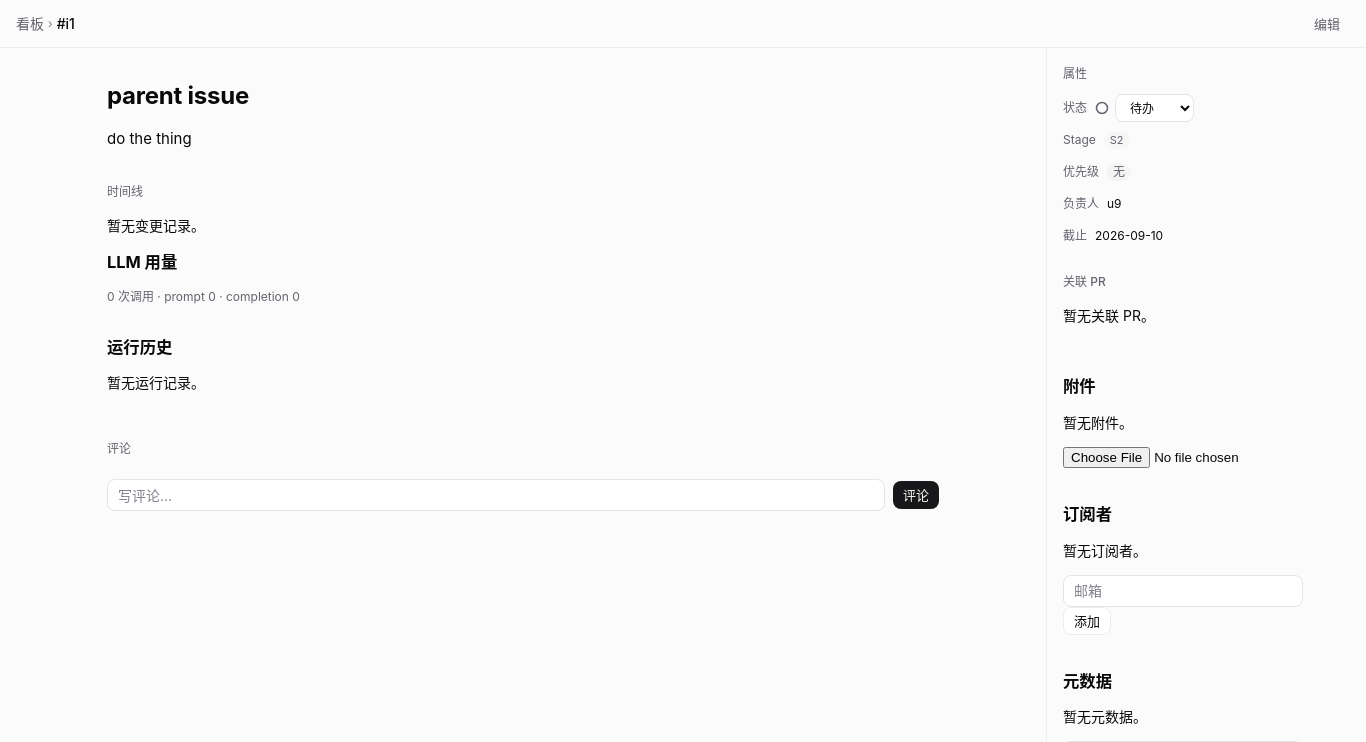
Test: IssueDetailPage › adds a top-level comment
Type "new comment" into the field with test id "new-comment" at [496, 495], box [107,479,885,511]
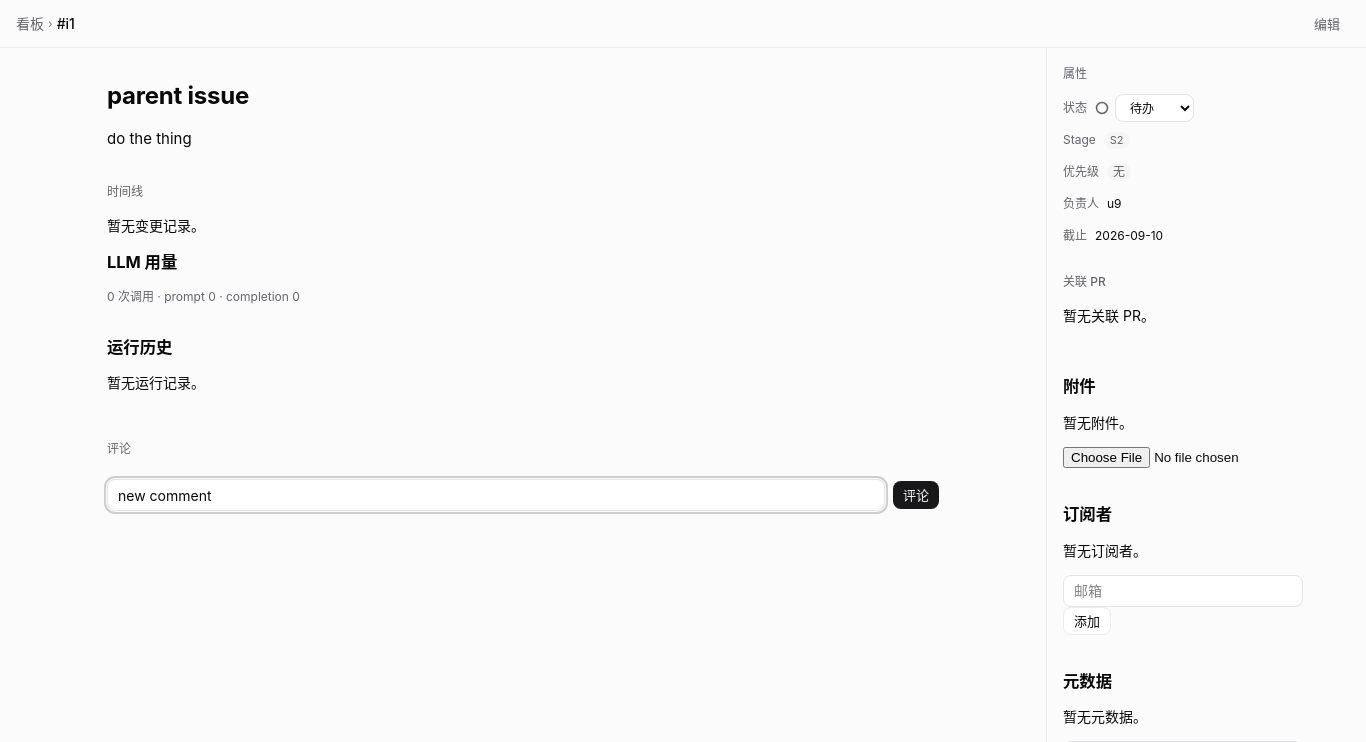
Click the button with test id "submit-comment" at [916, 495], box [893,481,939,509]
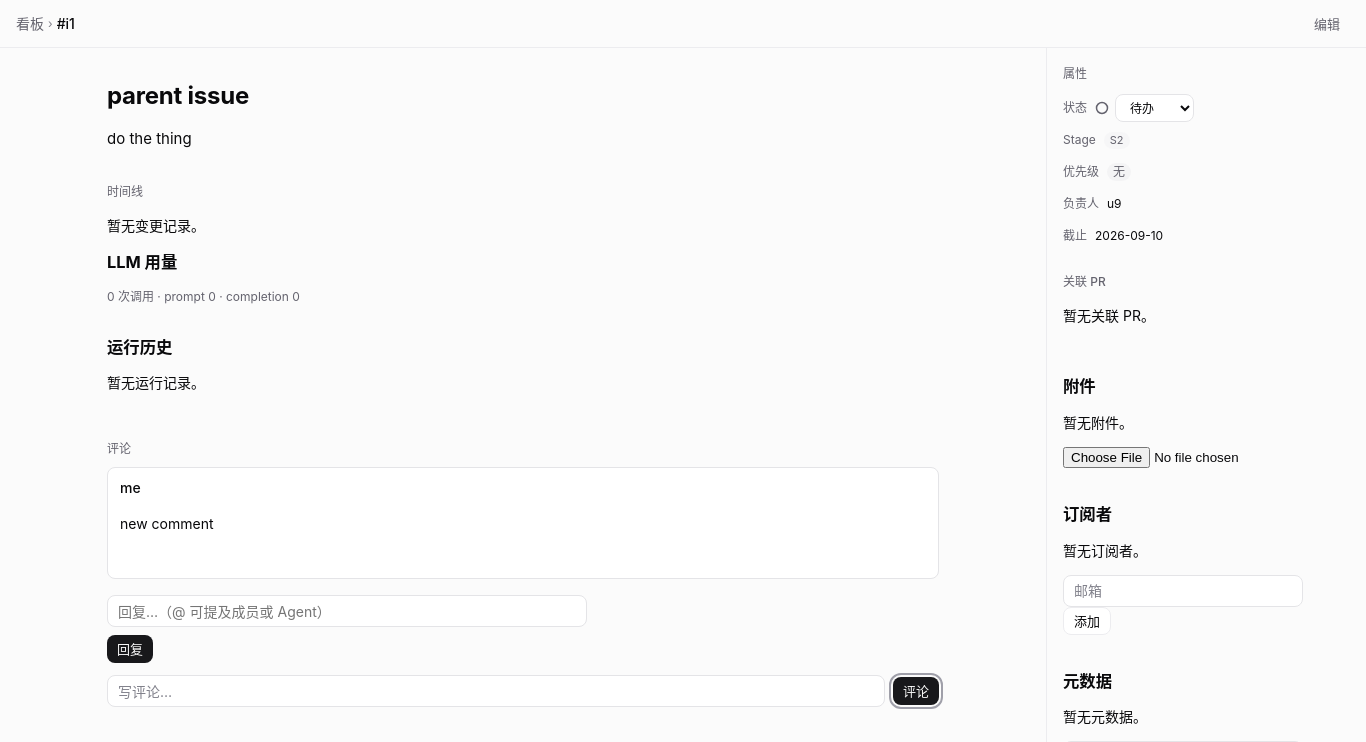
Expected: the element with test id "thread-cm1" is shown, [107,467,939,663]
